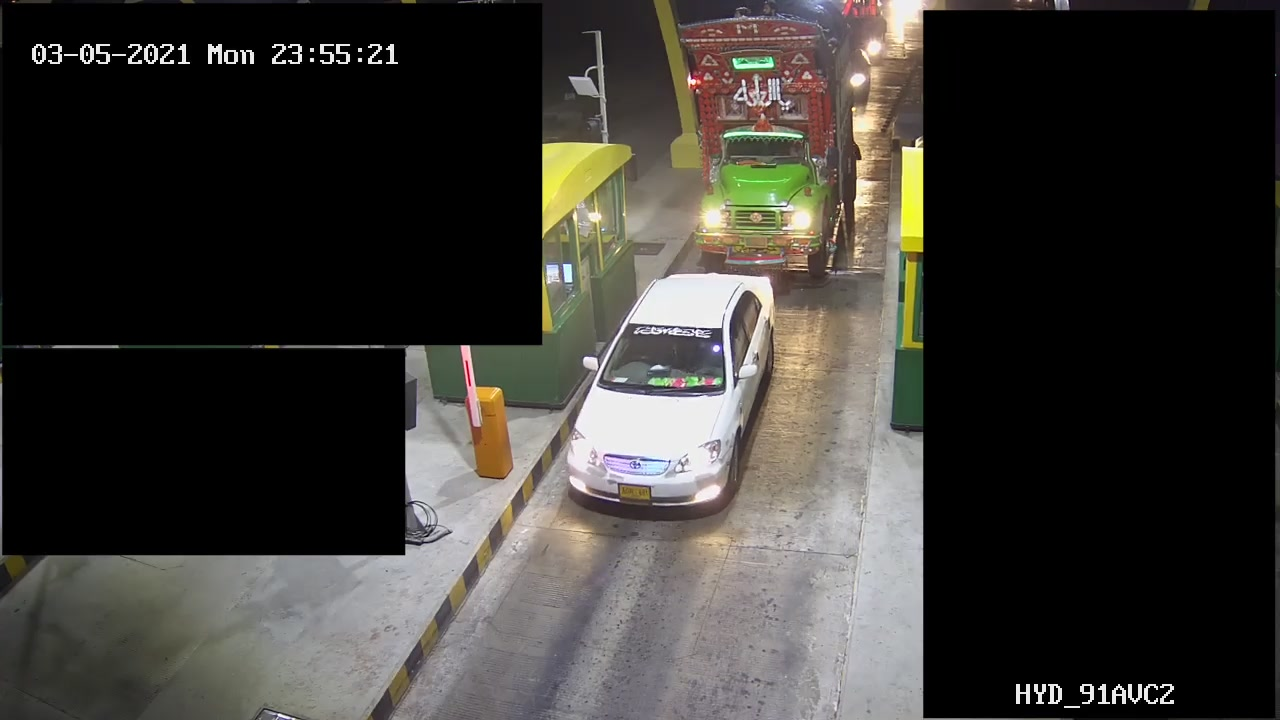F1: (558, 270, 790, 524)
